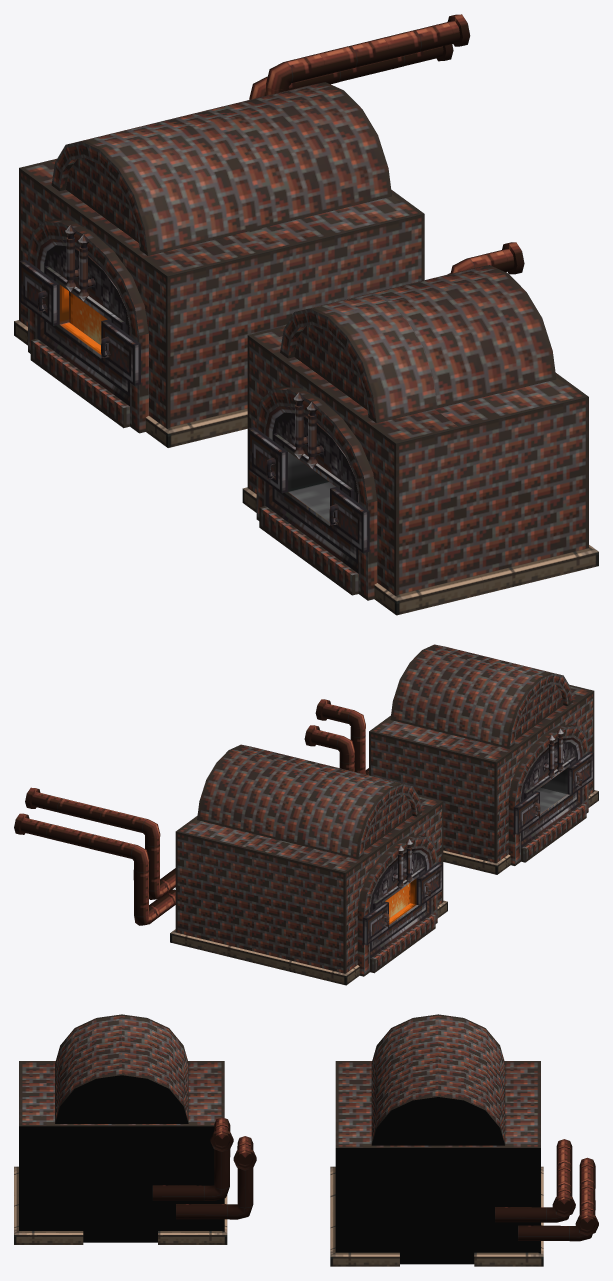
File: EnvMdrMD_Factory_A_Boiler_A.FBX
3 views of the same model, one above another, from view 1: azimuth 30°, elevation 25°; view 2: azimuth 150°, elevation 25°; view 3: azimuth 270°, elevation 25° (orthographic). The views are drawn at different scales.
Visible parts, largest first — view 1: EnvMdrMD_Factory_A_Boiler_A, EnvMdrMD_Factory_A_Boiler_B; view 2: EnvMdrMD_Factory_A_Boiler_A, EnvMdrMD_Factory_A_Boiler_B; view 3: EnvMdrMD_Factory_A_Boiler_A, EnvMdrMD_Factory_A_Boiler_B.
Boxes of the visible parts, x1,y1,x2,y2 form: EnvMdrMD_Factory_A_Boiler_A: (14,14,470,447); EnvMdrMD_Factory_A_Boiler_B: (242,242,598,615); EnvMdrMD_Factory_A_Boiler_A: (14,744,447,985); EnvMdrMD_Factory_A_Boiler_B: (304,644,598,874); EnvMdrMD_Factory_A_Boiler_A: (330,1014,598,1266); EnvMdrMD_Factory_A_Boiler_B: (14,1014,256,1244).
Bounding box in the file's own units: 753 × 355 × 1138.
1 material, 1 textured.
